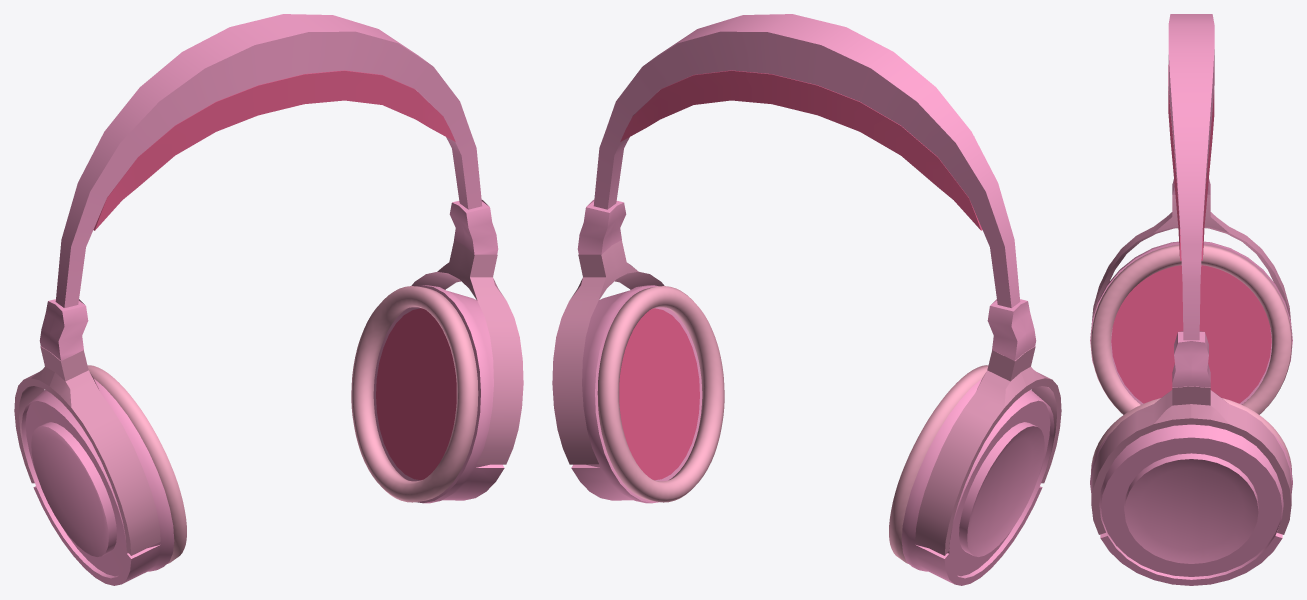
File: Headphones_LP.glb
The picture shows the model from 3 angles, left to right: view 1: azimuth 30°, elevation 25°; view 2: azimuth 150°, elevation 25°; view 3: azimuth 270°, elevation 25°; orthographic projection. The views are drawn at different scales.
Visible parts, largest first — view 1: Circle.001_headband_0, Circle.005_headband_0, Circle.003_Material.002_0, Circle.006_Material.001_0, Circle.008_Material_0, Circle.007_Material_0; view 2: Circle.001_headband_0, Circle.005_headband_0, Circle.003_Material.002_0, Circle.006_Material.001_0, Circle.008_Material_0, Circle.007_Material_0; view 3: Circle.005_headband_0, Circle.008_Material_0, Circle.001_headband_0, Circle.003_Material.002_0, Circle.006_Material.001_0, Circle.007_Material_0.
Part boxes in pixels (<box>): Circle.001_headband_0: <box>39,14,498,360</box>; Circle.005_headband_0: <box>21,285,504,585</box>; Circle.003_Material.002_0: <box>14,240,523,555</box>; Circle.006_Material.001_0: <box>87,286,478,563</box>; Circle.008_Material_0: <box>376,308,456,480</box>; Circle.007_Material_0: <box>93,70,455,230</box>; Circle.001_headband_0: <box>577,14,1036,360</box>; Circle.005_headband_0: <box>571,285,1054,585</box>; Circle.003_Material.002_0: <box>552,240,1061,555</box>; Circle.006_Material.001_0: <box>597,286,988,563</box>; Circle.008_Material_0: <box>619,308,699,480</box>; Circle.007_Material_0: <box>620,70,982,230</box>; Circle.005_headband_0: <box>1090,241,1292,585</box>; Circle.008_Material_0: <box>1111,265,1271,403</box>; Circle.001_headband_0: <box>1168,14,1214,387</box>; Circle.003_Material.002_0: <box>1091,194,1291,534</box>; Circle.006_Material.001_0: <box>1091,245,1291,471</box>; Circle.007_Material_0: <box>1168,65,1214,260</box>.
Bounding box in the file's own units: 4.78 × 5.26 × 2.06.
